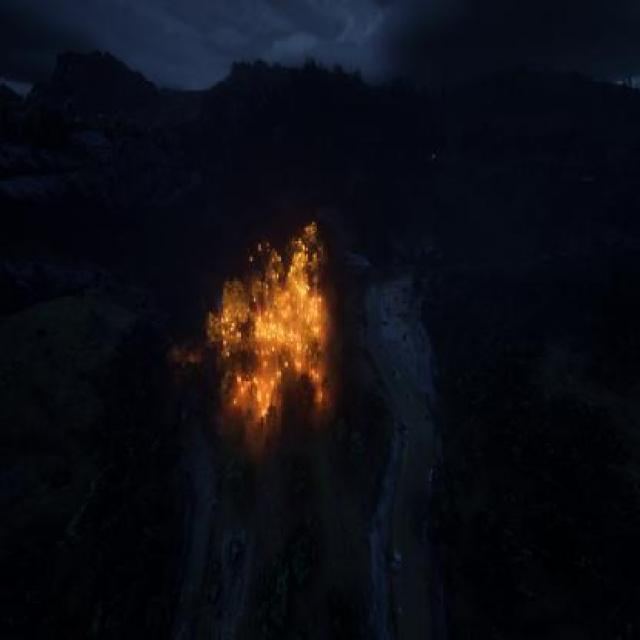Fire: (176, 200, 360, 447)
